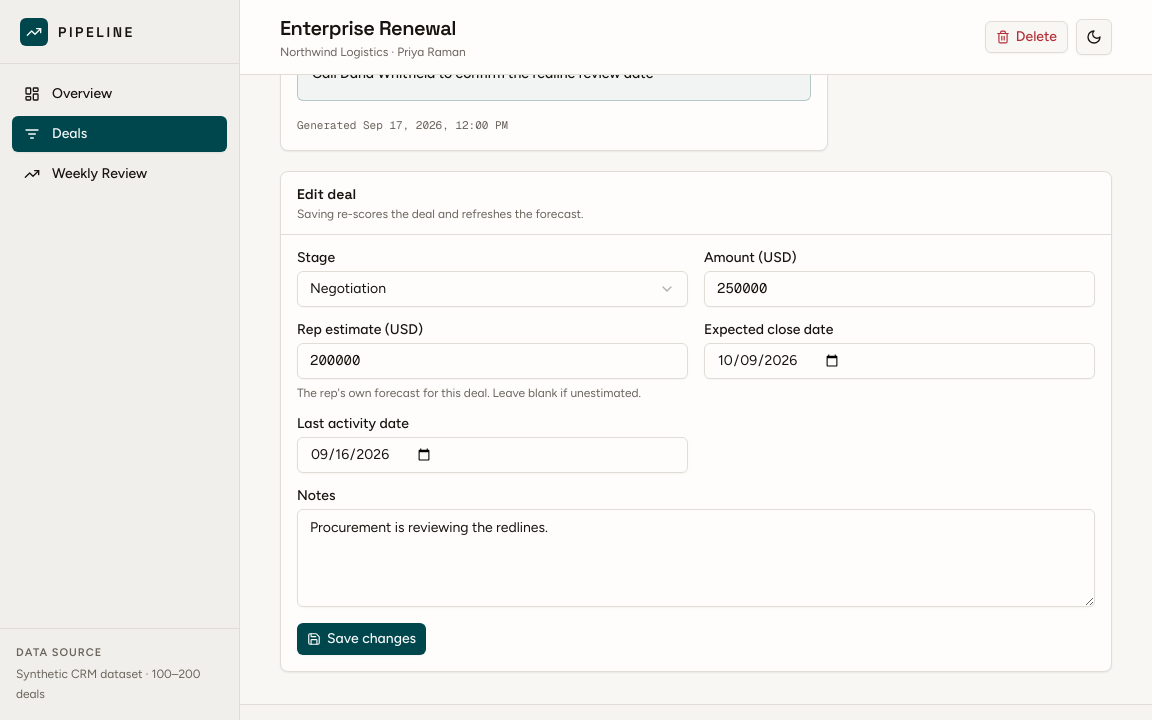
Test: DealDetailPage › rejects a negative rep estimate without saving
(page scrolled)
Expected: the element with test id "deal_detail.edit_panel" is shown, [280,170,1112,672]
Replace the text in the number field with test id "deal_detail.edit_form.rep_estimate_input" with "-5000": [492, 360] box [297,342,688,378]
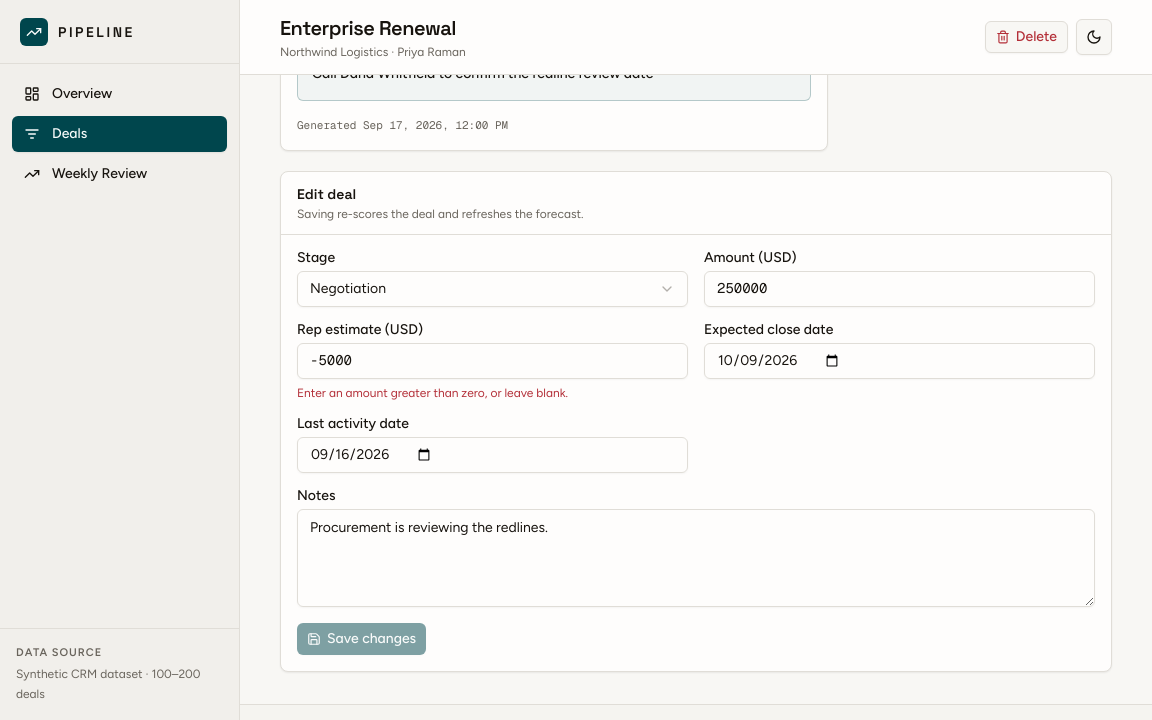
Expected: the text "Enter an amount greater than zero, or leave blank." is shown, [297,386,568,400]
Expected: the button with test id "deal_detail.edit_form.save_button" is disabled, [297,622,426,654]
